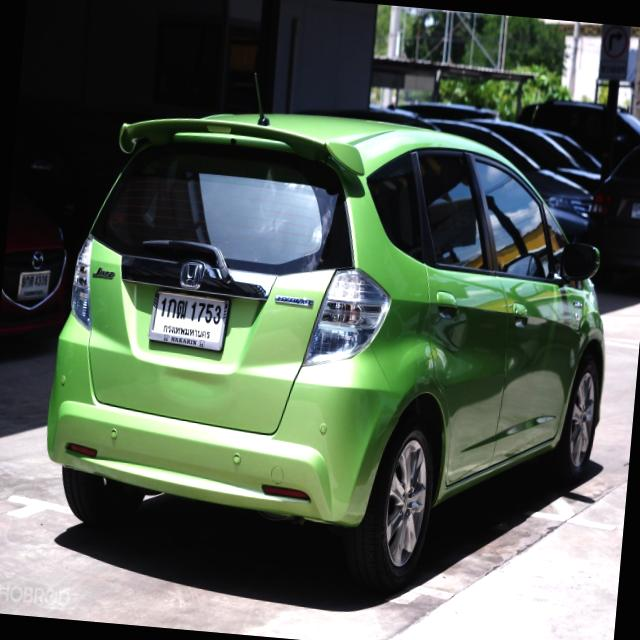license_plate: (144, 278, 234, 360)
